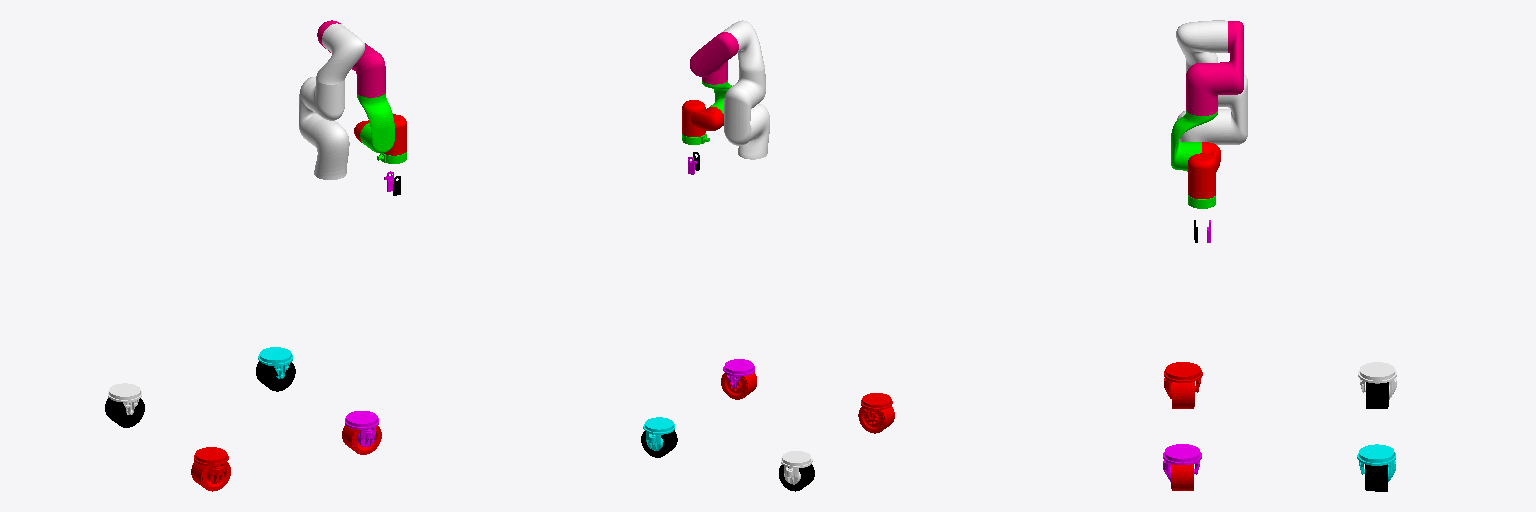
The robot description file, URDF, robot "demo_bot":
<?xml version="1.0" ?>
<robot name="demo_bot">
  <link name="arm_shoulder241_1">
    <visual name="arm_shoulder241_1_visual">
      <origin xyz="0 0 0" rpy="0 0 0"/>
      <geometry>
        <mesh filename="package://base_urdf/meshes/arm_shoulder241_1.stl"/>
      </geometry>
      <material name="arm_shoulder241_1-material">
        <color rgba="1 1 1 1"/>
      </material>
    </visual>
    <collision name="arm_shoulder241_1_collision">
      <origin xyz="0 0 0" rpy="0 0 0"/>
      <geometry>
        <mesh filename="package://base_urdf/meshes/arm_shoulder241_1.stl"/>
      </geometry>
    </collision>
    <inertial>
      <mass value="0"/>
      <inertia ixx="0" iyy="0" izz="0" ixy="0" ixz="0" iyz="0"/>
      <origin xyz="0.10182644 -0.89319052 0.1875" rpy="0 0 0"/>
    </inertial>
  </link>
  <link name="Chassis_1">
    <visual name="Chassis_1_visual">
      <origin xyz="0 0 0" rpy="0 0 0"/>
      <geometry>
        <mesh filename="package://base_urdf/meshes/Chassis_1.stl"/>
      </geometry>
      <material name="Chassis_1-material">
        <color rgba="0 0 0 1"/>
      </material>
    </visual>
    <collision name="Chassis_1_collision">
      <origin xyz="0 0 0" rpy="0 0 0"/>
      <geometry>
        <mesh filename="package://base_urdf/meshes/Chassis_1.stl"/>
      </geometry>
    </collision>
    <inertial>
      <mass value="0"/>
      <inertia ixx="0.001439293" iyy="0.0014497902" izz="0.00088562645" ixy="6.3144702e-05" ixz="-0.00020675535" iyz="-0.00010249202"/>
      <origin xyz="0.12539636 0.19884478 0.86531112" rpy="0 0 0"/>
    </inertial>
  </link>
  <link name="arm_elbow_4_1">
    <visual name="arm_elbow_4_1_visual">
      <origin xyz="0 0 0" rpy="0 0 0"/>
      <geometry>
        <mesh filename="package://base_urdf/meshes/arm_elbow_4_1.stl"/>
      </geometry>
      <material name="arm_elbow_4_1-material">
        <color rgba="1 1 1 1"/>
      </material>
    </visual>
    <collision name="arm_elbow_4_1_collision">
      <origin xyz="0 0 0" rpy="0 0 0"/>
      <geometry>
        <mesh filename="package://base_urdf/meshes/arm_elbow_4_1.stl"/>
      </geometry>
    </collision>
    <inertial>
      <mass value="0"/>
      <inertia ixx="0" iyy="0" izz="0" ixy="0" ixz="0" iyz="0"/>
      <origin xyz="0 0 0" rpy="0 0 0"/>
    </inertial>
  </link>
  <link name="Az_Front_Left_1">
    <visual name="Az_Front_Left_1_visual">
      <origin xyz="0 0 0" rpy="0 0 0"/>
      <geometry>
        <mesh filename="package://base_urdf/meshes/Az_Front_Left_1.stl"/>
      </geometry>
      <material name="Az_Front_Left_1-material">
        <color rgba="1 0 1 1"/>
      </material>
    </visual>
    <collision name="Az_Front_Left_1_collision">
      <origin xyz="0 0 0" rpy="0 0 0"/>
      <geometry>
        <mesh filename="package://base_urdf/meshes/Az_Front_Left_1.stl"/>
      </geometry>
    </collision>
    <inertial>
      <mass value="0"/>
      <inertia ixx="0" iyy="0" izz="0" ixy="0" ixz="0" iyz="0"/>
      <origin xyz="0.066675 -0.066675 -0.10874375" rpy="0 0 0"/>
    </inertial>
  </link>
  <link name="Az_Front_right_1">
    <visual name="Az_Front_right_1_visual">
      <origin xyz="0 0 0" rpy="0 0 0"/>
      <geometry>
        <mesh filename="package://base_urdf/meshes/Az_Front_right_1.stl"/>
      </geometry>
      <material name="Az_Front_right_1-material">
        <color rgba="0 1 1 1"/>
      </material>
    </visual>
    <collision name="Az_Front_right_1_collision">
      <origin xyz="0 0 0" rpy="0 0 0"/>
      <geometry>
        <mesh filename="package://base_urdf/meshes/Az_Front_right_1.stl"/>
      </geometry>
    </collision>
    <inertial>
      <mass value="0"/>
      <inertia ixx="0" iyy="0" izz="0" ixy="0" ixz="0" iyz="0"/>
      <origin xyz="0.066675 0.066675 -0.10874375" rpy="0 0 0"/>
    </inertial>
  </link>
  <link name="Az_Back_Right_1">
    <visual name="Az_Back_Right_1_visual">
      <origin xyz="0 0 0" rpy="0 0 0"/>
      <geometry>
        <mesh filename="package://base_urdf/meshes/Az_Back_Right_1.stl"/>
      </geometry>
      <material name="Az_Back_Right_1-material">
        <color rgba="1 1 1 1"/>
      </material>
    </visual>
    <collision name="Az_Back_Right_1_collision">
      <origin xyz="0 0 0" rpy="0 0 0"/>
      <geometry>
        <mesh filename="package://base_urdf/meshes/Az_Back_Right_1.stl"/>
      </geometry>
    </collision>
    <inertial>
      <mass value="0"/>
      <inertia ixx="0" iyy="0" izz="0" ixy="0" ixz="0" iyz="0"/>
      <origin xyz="0.066675 -0.066675 -0.10874375" rpy="0 0 0"/>
    </inertial>
  </link>
  <link name="Az_Back_left_1">
    <visual name="Az_Back_left_1_visual">
      <origin xyz="0 0 0" rpy="0 0 0"/>
      <geometry>
        <mesh filename="package://base_urdf/meshes/Az_Back_left_1.stl"/>
      </geometry>
      <material name="Az_Back_left_1-material">
        <color rgba="1 0 0 1"/>
      </material>
    </visual>
    <collision name="Az_Back_left_1_collision">
      <origin xyz="0 0 0" rpy="0 0 0"/>
      <geometry>
        <mesh filename="package://base_urdf/meshes/Az_Back_left_1.stl"/>
      </geometry>
    </collision>
    <inertial>
      <mass value="0"/>
      <inertia ixx="0" iyy="0" izz="0" ixy="0" ixz="0" iyz="0"/>
      <origin xyz="0.066675 0.066675 -0.10874375" rpy="0 0 0"/>
    </inertial>
  </link>
  <link name="elbow2_p4_1">
    <visual name="elbow2_p4_1_visual">
      <origin xyz="0 0 0" rpy="0 0 0"/>
      <geometry>
        <mesh filename="package://base_urdf/meshes/elbow2_p4_1.stl"/>
      </geometry>
      <material name="elbow2_p4_1-material">
        <color rgba="1 0 0.5 1"/>
      </material>
    </visual>
    <collision name="elbow2_p4_1_collision">
      <origin xyz="0 0 0" rpy="0 0 0"/>
      <geometry>
        <mesh filename="package://base_urdf/meshes/elbow2_p4_1.stl"/>
      </geometry>
    </collision>
    <inertial>
      <mass value="0"/>
      <inertia ixx="0" iyy="0" izz="0" ixy="0" ixz="0" iyz="0"/>
      <origin xyz="-0.16933092 -0.08577945 0.06658" rpy="0 0 0"/>
    </inertial>
  </link>
  <link name="Wheel_Front_Left_1">
    <visual name="Wheel_Front_Left_1_visual">
      <origin xyz="0 0 0" rpy="0 0 0"/>
      <geometry>
        <mesh filename="package://base_urdf/meshes/Wheel_Front_Left_1.stl"/>
      </geometry>
      <material name="Wheel_Front_Left_1-material">
        <color rgba="1 0 0 1"/>
      </material>
    </visual>
    <collision name="Wheel_Front_Left_1_collision">
      <origin xyz="0 0 0" rpy="0 0 0"/>
      <geometry>
        <mesh filename="package://base_urdf/meshes/Wheel_Front_Left_1.stl"/>
      </geometry>
    </collision>
    <inertial>
      <mass value="0"/>
      <inertia ixx="0" iyy="0" izz="0" ixy="0" ixz="0" iyz="0"/>
      <origin xyz="0.066675 0.0508 -0.06874688" rpy="0 0 0"/>
    </inertial>
  </link>
  <link name="Wheel_Front_Right_1">
    <visual name="Wheel_Front_Right_1_visual">
      <origin xyz="0 0 0" rpy="0 0 0"/>
      <geometry>
        <mesh filename="package://base_urdf/meshes/Wheel_Front_Right_1.stl"/>
      </geometry>
      <material name="Wheel_Front_Right_1-material">
        <color rgba="0 0 0 1"/>
      </material>
    </visual>
    <collision name="Wheel_Front_Right_1_collision">
      <origin xyz="0 0 0" rpy="0 0 0"/>
      <geometry>
        <mesh filename="package://base_urdf/meshes/Wheel_Front_Right_1.stl"/>
      </geometry>
    </collision>
    <inertial>
      <mass value="0"/>
      <inertia ixx="0" iyy="0" izz="0" ixy="0" ixz="0" iyz="0"/>
      <origin xyz="0.066675 -0.0508 -0.06874688" rpy="0 0 0"/>
    </inertial>
  </link>
  <link name="Wheel_Back_Right_1">
    <visual name="Wheel_Back_Right_1_visual">
      <origin xyz="0 0 0" rpy="0 0 0"/>
      <geometry>
        <mesh filename="package://base_urdf/meshes/Wheel_Back_Right_1.stl"/>
      </geometry>
      <material name="Wheel_Back_Right_1-material">
        <color rgba="0 0 0 1"/>
      </material>
    </visual>
    <collision name="Wheel_Back_Right_1_collision">
      <origin xyz="0 0 0" rpy="0 0 0"/>
      <geometry>
        <mesh filename="package://base_urdf/meshes/Wheel_Back_Right_1.stl"/>
      </geometry>
    </collision>
    <inertial>
      <mass value="0"/>
      <inertia ixx="0" iyy="0" izz="0" ixy="0" ixz="0" iyz="0"/>
      <origin xyz="0.066675 0.0508 -0.06874688" rpy="0 0 0"/>
    </inertial>
  </link>
  <link name="Wheel_Back_Left_1">
    <visual name="Wheel_Back_Left_1_visual">
      <origin xyz="0 0 0" rpy="0 0 0"/>
      <geometry>
        <mesh filename="package://base_urdf/meshes/Wheel_Back_Left_1.stl"/>
      </geometry>
      <material name="Wheel_Back_Left_1-material">
        <color rgba="1 0 0 1"/>
      </material>
    </visual>
    <collision name="Wheel_Back_Left_1_collision">
      <origin xyz="0 0 0" rpy="0 0 0"/>
      <geometry>
        <mesh filename="package://base_urdf/meshes/Wheel_Back_Left_1.stl"/>
      </geometry>
    </collision>
    <inertial>
      <mass value="0"/>
      <inertia ixx="0" iyy="0" izz="0" ixy="0" ixz="0" iyz="0"/>
      <origin xyz="0.066675 -0.0508 -0.06874688" rpy="0 0 0"/>
    </inertial>
  </link>
  <link name="wrist_1_p4_1">
    <visual name="wrist_1_p4_1_visual">
      <origin xyz="0 0 0" rpy="0 0 0"/>
      <geometry>
        <mesh filename="package://base_urdf/meshes/wrist_1_p4_1.stl"/>
      </geometry>
      <material name="wrist_1_p4_1-material">
        <color rgba="0 1 0 1"/>
      </material>
    </visual>
    <collision name="wrist_1_p4_1_collision">
      <origin xyz="0 0 0" rpy="0 0 0"/>
      <geometry>
        <mesh filename="package://base_urdf/meshes/wrist_1_p4_1.stl"/>
      </geometry>
    </collision>
    <inertial>
      <mass value="0"/>
      <inertia ixx="0" iyy="0" izz="0" ixy="0" ixz="0" iyz="0"/>
      <origin xyz="1.23e-06 1.02e-06 -0.13555" rpy="0 0 0"/>
    </inertial>
  </link>
  <link name="wrist_2_p4_1">
    <visual name="wrist_2_p4_1_visual">
      <origin xyz="0 0 0" rpy="0 0 0"/>
      <geometry>
        <mesh filename="package://base_urdf/meshes/wrist_2_p4_1.stl"/>
      </geometry>
      <material name="wrist_2_p4_1-material">
        <color rgba="1 0 0 1"/>
      </material>
    </visual>
    <collision name="wrist_2_p4_1_collision">
      <origin xyz="0 0 0" rpy="0 0 0"/>
      <geometry>
        <mesh filename="package://base_urdf/meshes/wrist_2_p4_1.stl"/>
      </geometry>
    </collision>
    <inertial>
      <mass value="0"/>
      <inertia ixx="0" iyy="0" izz="0" ixy="0" ixz="0" iyz="0"/>
      <origin xyz="-0.07700037 0.07099971 0" rpy="0 0 0"/>
    </inertial>
  </link>
  <link name="end_effector_p4_1">
    <visual name="end_effector_p4_1_visual">
      <origin xyz="0 0 0" rpy="0 0 0"/>
      <geometry>
        <mesh filename="package://base_urdf/meshes/end_effector_p4_1.stl"/>
      </geometry>
      <material name="end_effector_p4_1-material">
        <color rgba="0 1 0 1"/>
      </material>
    </visual>
    <collision name="end_effector_p4_1_collision">
      <origin xyz="0 0 0" rpy="0 0 0"/>
      <geometry>
        <mesh filename="package://base_urdf/meshes/end_effector_p4_1.stl"/>
      </geometry>
    </collision>
    <inertial>
      <mass value="0"/>
      <inertia ixx="0" iyy="0" izz="0" ixy="0" ixz="0" iyz="0"/>
      <origin xyz="0 0 0" rpy="0 0 0"/>
    </inertial>
  </link>
  <link name="gripper_v43_1">
    <visual name="gripper_v43_1_visual">
      <origin xyz="0 0 0" rpy="0 0 0"/>
      <geometry>
        <mesh filename="package://base_urdf/meshes/gripper_v43_1.stl"/>
      </geometry>
      <material name="gripper_v43_1-material">
        <color rgba="0 1 1 1"/>
      </material>
    </visual>
    <collision name="gripper_v43_1_collision">
      <origin xyz="0 0 0" rpy="0 0 0"/>
      <geometry>
        <mesh filename="package://base_urdf/meshes/gripper_v43_1.stl"/>
      </geometry>
    </collision>
    <inertial>
      <mass value="0"/>
      <inertia ixx="4.7330999e-05" iyy="5.6165087e-05" izz="8.899687e-06" ixy="-5.143336e-07" ixz="2.0307483e-05" iyz="1.2067671e-06"/>
      <origin xyz="-0.13302009 -0.0071296716 0.33095774" rpy="0 0 0"/>
    </inertial>
  </link>
  <link name="Finger_left_2">
    <visual name="Finger_left_2_visual">
      <origin xyz="0 0 0" rpy="0 0 0"/>
      <geometry>
        <mesh filename="package://base_urdf/meshes/Finger_left_2.stl"/>
      </geometry>
      <material name="Finger_left_2-material">
        <color rgba="0 0 0 1"/>
      </material>
    </visual>
    <collision name="Finger_left_2_collision">
      <origin xyz="0 0 0" rpy="0 0 0"/>
      <geometry>
        <mesh filename="package://base_urdf/meshes/Finger_left_2.stl"/>
      </geometry>
    </collision>
    <inertial>
      <mass value="0"/>
      <inertia ixx="0" iyy="0" izz="0" ixy="0" ixz="0" iyz="0"/>
      <origin xyz="0 0 0.0315" rpy="0 0 0"/>
    </inertial>
  </link>
  <link name="Finger_right_2">
    <visual name="Finger_right_2_visual">
      <origin xyz="0 0 0" rpy="0 0 0"/>
      <geometry>
        <mesh filename="package://base_urdf/meshes/Finger_right_2.stl"/>
      </geometry>
      <material name="Finger_right_2-material">
        <color rgba="1 0 1 1"/>
      </material>
    </visual>
    <collision name="Finger_right_2_collision">
      <origin xyz="0 0 0" rpy="0 0 0"/>
      <geometry>
        <mesh filename="package://base_urdf/meshes/Finger_right_2.stl"/>
      </geometry>
    </collision>
    <inertial>
      <mass value="0"/>
      <inertia ixx="0" iyy="0" izz="0" ixy="0" ixz="0" iyz="0"/>
      <origin xyz="0 0 0.0315" rpy="0 0 0"/>
    </inertial>
  </link>
  <joint name="Revolute_9" type="revolute">
    <origin xyz="0.10168546 -0.93069025 0.1875" rpy="3.1415927 0 3.1378331"/>
    <parent link="arm_shoulder241_1"/>
    <child link="Chassis_1"/>
    <axis xyz="0 0 -1"/>
    <limit effort="1" velocity="1" lower="-6.2831853" upper="6.2831853"/>
  </joint>
  <joint name="Revolute_10" type="revolute">
    <origin xyz="0.10197683 -0.8531908 0.3025" rpy="1.5670368 -1.5707963 0"/>
    <parent link="arm_shoulder241_1"/>
    <child link="arm_elbow_4_1"/>
    <axis xyz="0 0 -1"/>
    <limit effort="1" velocity="1" lower="-6.2831853" upper="6.2831853"/>
  </joint>
  <joint name="Revolute_5" type="revolute">
    <origin xyz="-0.078325 -0.04888 0.78425625" rpy="-3.1415927 2.220446e-16 3.1415927"/>
    <parent link="Chassis_1"/>
    <child link="Az_Front_Left_1"/>
    <axis xyz="0 0 -1"/>
    <limit effort="1" velocity="1" lower="-6.2831853" upper="6.2831853"/>
  </joint>
  <joint name="Revolute_6" type="revolute">
    <origin xyz="-0.078325 0.45852665 0.7848579" rpy="-3.1415927 0 3.1415927"/>
    <parent link="Chassis_1"/>
    <child link="Az_Front_right_1"/>
    <axis xyz="0 0 -1"/>
    <limit effort="1" velocity="1" lower="-6.2831853" upper="6.2831853"/>
  </joint>
  <joint name="Revolute_7" type="revolute">
    <origin xyz="0.429084 0.458325 0.78425625" rpy="3.1415927 0 -1.3722357e-13"/>
    <parent link="Chassis_1"/>
    <child link="Az_Back_Right_1"/>
    <axis xyz="0 0 -1"/>
    <limit effort="1" velocity="1" lower="-6.2831853" upper="6.2831853"/>
  </joint>
  <joint name="Revolute_8" type="revolute">
    <origin xyz="0.429084 -0.049087 0.78425625" rpy="3.1415927 0 2.7311486e-14"/>
    <parent link="Chassis_1"/>
    <child link="Az_Back_left_1"/>
    <axis xyz="0 0 -1"/>
    <limit effort="1" velocity="1" lower="-6.2831853" upper="6.2831853"/>
  </joint>
  <joint name="Revolute_11" type="revolute">
    <origin xyz="0.28467 -0.05322 0.00817" rpy="0 0 0"/>
    <parent link="arm_elbow_4_1"/>
    <child link="elbow2_p4_1"/>
    <axis xyz="0 0 -1"/>
    <limit effort="1" velocity="1" lower="-6.2831853" upper="6.2831853"/>
  </joint>
  <joint name="Revolute_1" type="revolute">
    <origin xyz="0 0.0024615 -0.05794375" rpy="-1.5707963 0 0"/>
    <parent link="Az_Front_Left_1"/>
    <child link="Wheel_Front_Left_1"/>
    <axis xyz="0 0 -1"/>
    <limit effort="1" velocity="1" lower="-6.2831853" upper="6.2831853"/>
  </joint>
  <joint name="Revolute_2" type="revolute">
    <origin xyz="0 -0.0024615 -0.05794375" rpy="1.5707963 0 0"/>
    <parent link="Az_Front_right_1"/>
    <child link="Wheel_Front_Right_1"/>
    <axis xyz="0 0 -1"/>
    <limit effort="1" velocity="1" lower="-6.2831853" upper="6.2831853"/>
  </joint>
  <joint name="Revolute_3" type="revolute">
    <origin xyz="0 0.0024615 -0.05794375" rpy="-1.5707963 0 0"/>
    <parent link="Az_Back_Right_1"/>
    <child link="Wheel_Back_Right_1"/>
    <axis xyz="0 0 -1"/>
    <limit effort="1" velocity="1" lower="-6.2831853" upper="6.2831853"/>
  </joint>
  <joint name="Revolute_4" type="revolute">
    <origin xyz="0 -0.0024615 -0.05794375" rpy="1.5707963 0 0"/>
    <parent link="Az_Back_left_1"/>
    <child link="Wheel_Back_Left_1"/>
    <axis xyz="0 0 -1"/>
    <limit effort="1" velocity="1" lower="-6.2831853" upper="6.2831853"/>
  </joint>
  <joint name="Revolute_12" type="revolute">
    <origin xyz="-0.16933092 -0.08577945 0.06658" rpy="-0 1.5707963 0"/>
    <parent link="elbow2_p4_1"/>
    <child link="wrist_1_p4_1"/>
    <axis xyz="0 0 -1"/>
    <limit effort="1" velocity="1" lower="-6.2831853" upper="6.2831853"/>
  </joint>
  <joint name="Revolute_13" type="revolute">
    <origin xyz="1.23e-06 1.02e-06 -0.13555" rpy="-1.5707963 0 1.5707963"/>
    <parent link="wrist_1_p4_1"/>
    <child link="wrist_2_p4_1"/>
    <axis xyz="0 0 -1"/>
    <limit effort="1" velocity="1" lower="-6.2831853" upper="6.2831853"/>
  </joint>
  <joint name="Revolute_14" type="revolute">
    <origin xyz="-0.07700037 0.07099971 0" rpy="1.5707963 0 0"/>
    <parent link="wrist_2_p4_1"/>
    <child link="end_effector_p4_1"/>
    <axis xyz="0 0 -1"/>
    <limit effort="1" velocity="1" lower="-6.2831853" upper="6.2831853"/>
  </joint>
  <joint name="Fastened_1" type="fixed">
    <origin xyz="0 0 -0.028" rpy="0 0 1.5707963"/>
    <parent link="end_effector_p4_1"/>
    <child link="gripper_v43_1"/>
  </joint>
  <joint name="Slider_1" type="prismatic">
    <origin xyz="0.016102783 0.00075805863 -0.060041236" rpy="-1.5707963 -1.4714163e-10 1.6231719"/>
    <parent link="gripper_v43_1"/>
    <child link="Finger_left_2"/>
    <axis xyz="0 0 -1"/>
    <limit effort="1" velocity="1" lower="-0.1" upper="0.1"/>
  </joint>
  <joint name="Slider_2" type="prismatic">
    <origin xyz="-0.018640596 -0.0010633098 -0.060041236" rpy="1.5707963 -1.4714141e-10 1.6231719"/>
    <parent link="gripper_v43_1"/>
    <child link="Finger_right_2"/>
    <axis xyz="0 0 -1"/>
    <limit effort="1" velocity="1" lower="-0.1" upper="0.1"/>
  </joint>
</robot>

--- Render facts (derived) ---
Views: 3 orthographic renders of the robot side by side, from view 1: azimuth 30°, elevation 25°; view 2: azimuth 150°, elevation 25°; view 3: azimuth 270°, elevation 25°.
Model demo_bot with 18 links and 17 joints (14 revolute, 2 prismatic, 1 fixed), rooted at arm_shoulder241_1, posed every joint at zero.
Links seen in each view (by area): view 1: arm_elbow_4_1, arm_shoulder241_1, wrist_1_p4_1, elbow2_p4_1, Az_Back_left_1, Az_Front_Left_1, Wheel_Back_Right_1, Wheel_Front_Right_1, Az_Front_right_1, Az_Back_Right_1, wrist_2_p4_1, Wheel_Back_Left_1 (+1 smaller); view 2: arm_elbow_4_1, elbow2_p4_1, wrist_2_p4_1, arm_shoulder241_1, Az_Front_right_1, Az_Back_Right_1, Wheel_Back_Left_1, Wheel_Front_Left_1, Az_Front_Left_1, Az_Back_left_1; view 3: elbow2_p4_1, arm_elbow_4_1, wrist_2_p4_1, wrist_1_p4_1, arm_shoulder241_1, Az_Front_right_1, Az_Back_Right_1, Az_Front_Left_1, Az_Back_left_1, Wheel_Back_Left_1, Wheel_Front_Left_1, Wheel_Front_Right_1 (+1 smaller).
Boxes of the visible links, <box> form: arm_elbow_4_1: <box>299,23,364,138</box>; arm_shoulder241_1: <box>303,114,349,179</box>; wrist_1_p4_1: <box>357,93,394,153</box>; elbow2_p4_1: <box>317,20,385,97</box>; Az_Back_left_1: <box>194,447,228,483</box>; Az_Front_Left_1: <box>345,411,378,446</box>; Wheel_Back_Right_1: <box>105,398,144,427</box>; Wheel_Front_Right_1: <box>256,361,295,391</box>; Az_Front_right_1: <box>258,347,292,378</box>; Az_Back_Right_1: <box>108,383,141,414</box>; wrist_2_p4_1: <box>354,114,406,155</box>; Wheel_Back_Left_1: <box>191,461,230,491</box>; arm_elbow_4_1: <box>721,20,765,145</box>; elbow2_p4_1: <box>690,32,738,84</box>; wrist_2_p4_1: <box>682,100,723,136</box>; arm_shoulder241_1: <box>738,104,769,159</box>; Az_Front_right_1: <box>643,417,674,450</box>; Az_Back_Right_1: <box>781,451,812,484</box>; Wheel_Back_Left_1: <box>858,406,894,433</box>; Wheel_Front_Left_1: <box>721,372,756,399</box>; Az_Front_Left_1: <box>723,359,754,387</box>; Az_Back_left_1: <box>861,393,892,421</box>; elbow2_p4_1: <box>1186,21,1243,115</box>; arm_elbow_4_1: <box>1176,20,1247,144</box>; wrist_2_p4_1: <box>1188,142,1220,198</box>; wrist_1_p4_1: <box>1171,111,1217,170</box>; arm_shoulder241_1: <box>1177,109,1230,171</box>; Az_Front_right_1: <box>1357,444,1395,481</box>; Az_Back_Right_1: <box>1358,362,1396,399</box>; Az_Front_Left_1: <box>1163,444,1201,481</box>; Az_Back_left_1: <box>1164,362,1202,398</box>; Wheel_Back_Left_1: <box>1172,382,1194,408</box>; Wheel_Front_Left_1: <box>1171,464,1193,490</box>; Wheel_Front_Right_1: <box>1365,464,1387,491</box>.
Size in the robot's own frame: 0.7337 by 0.6116 by 1.34 metres.
16 mesh visuals loaded from 18 distinct referenced files (16 binary STL); not drawn: 2 (reference not matched to a file when rendering).
